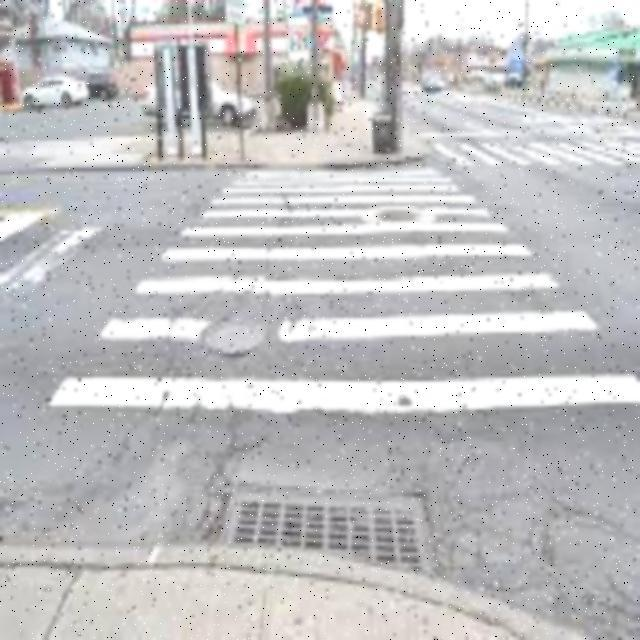crosswalk: (40, 161, 638, 417), (408, 130, 639, 179)
